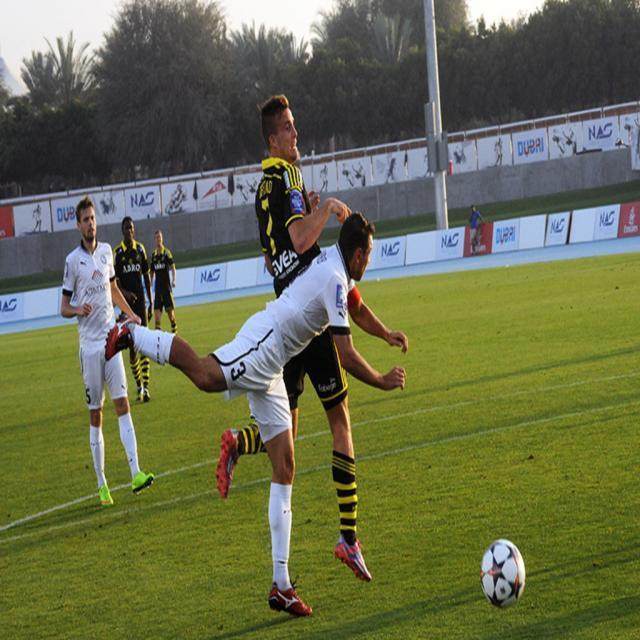football: (480, 532, 533, 611)
